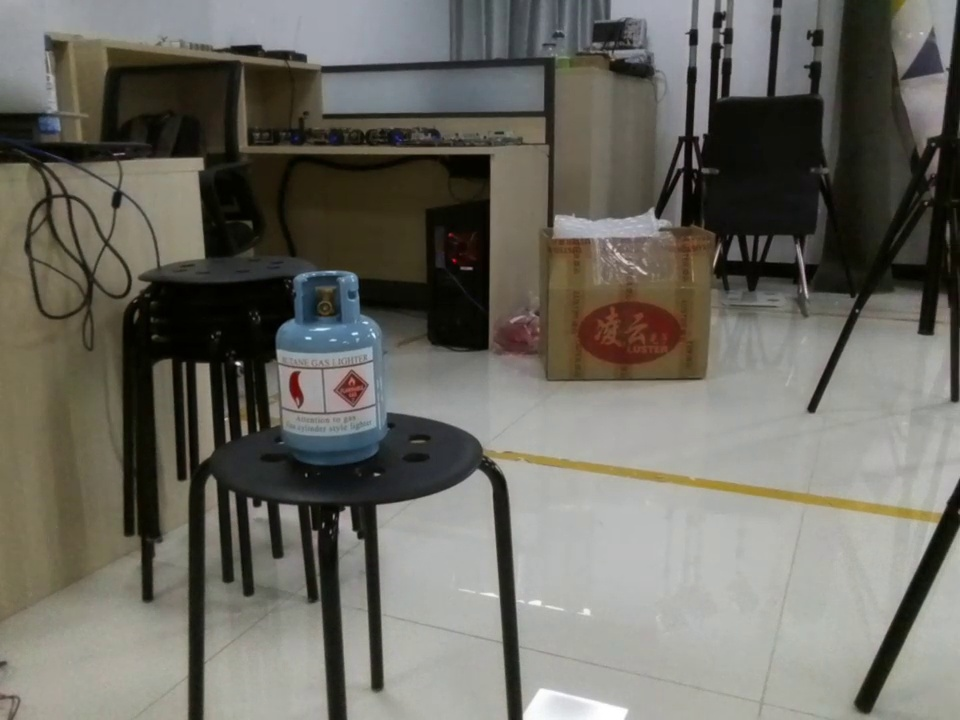gas tank: (269, 263, 403, 474)
